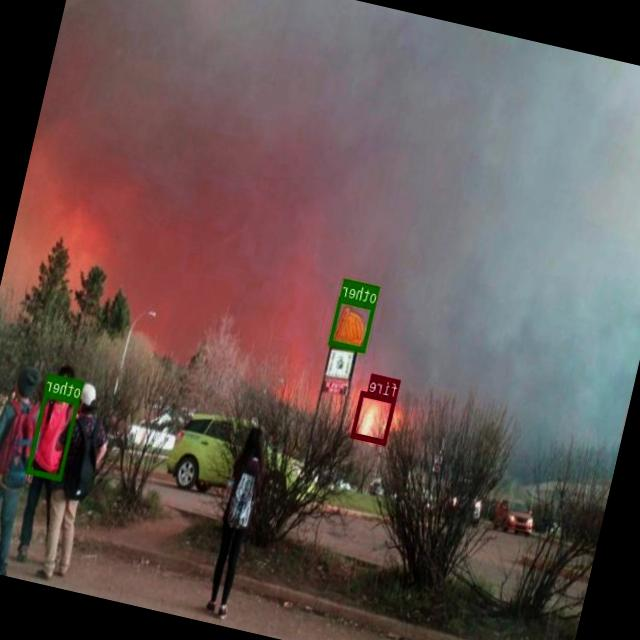fire: (351, 390, 396, 444)
